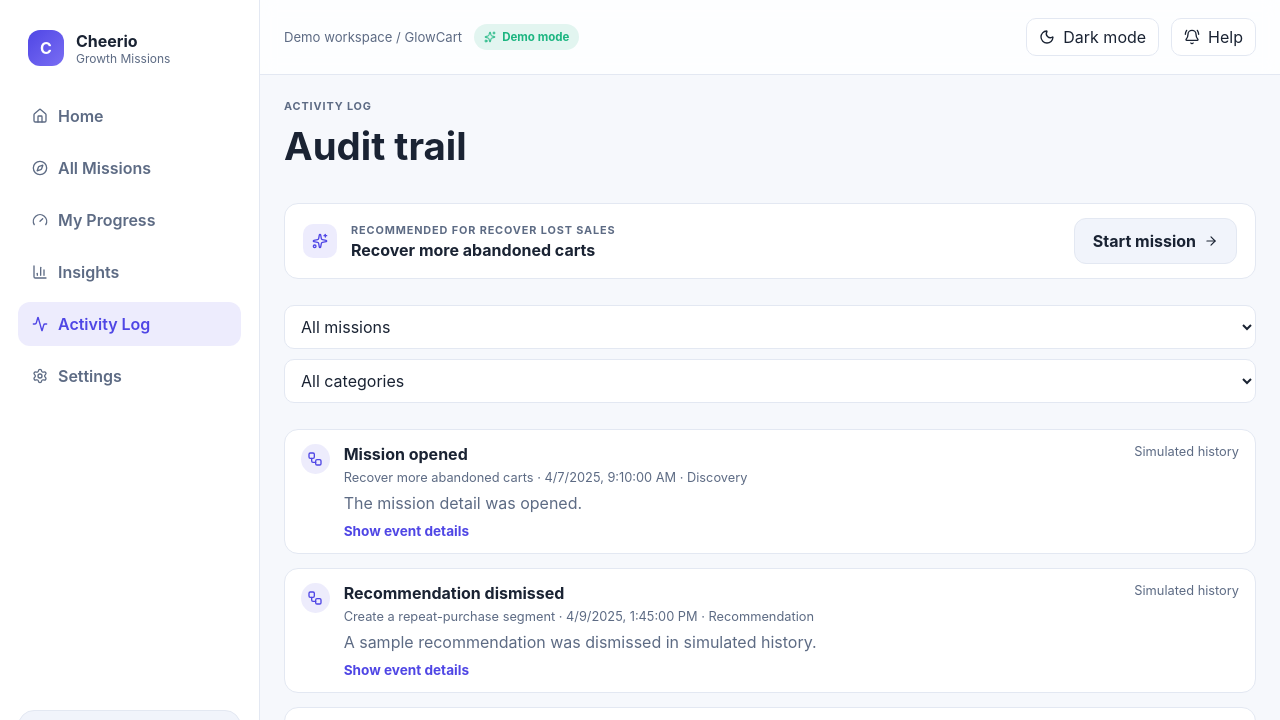
Test case: UI smoke tests › filters activity by mission and shows readable event context
Check: the text "Recommendation dismissed" is shown, box [344, 583, 564, 603]
Select "Understand campaign performance" in the dropdown named "Filter by mission" at (770, 327), box [284, 305, 1256, 349]
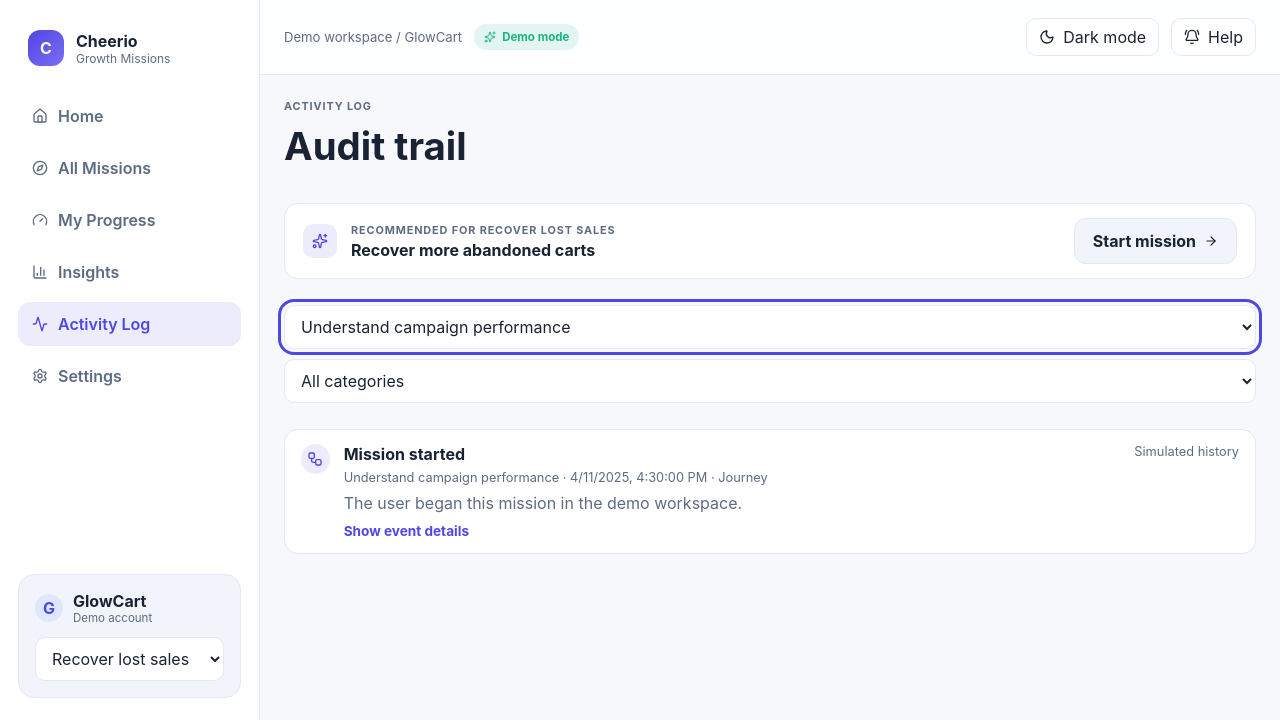
Check: the text "Simulated history" is shown, box [1134, 444, 1239, 464]
Check: the text "Recommendation dismissed" is gone
